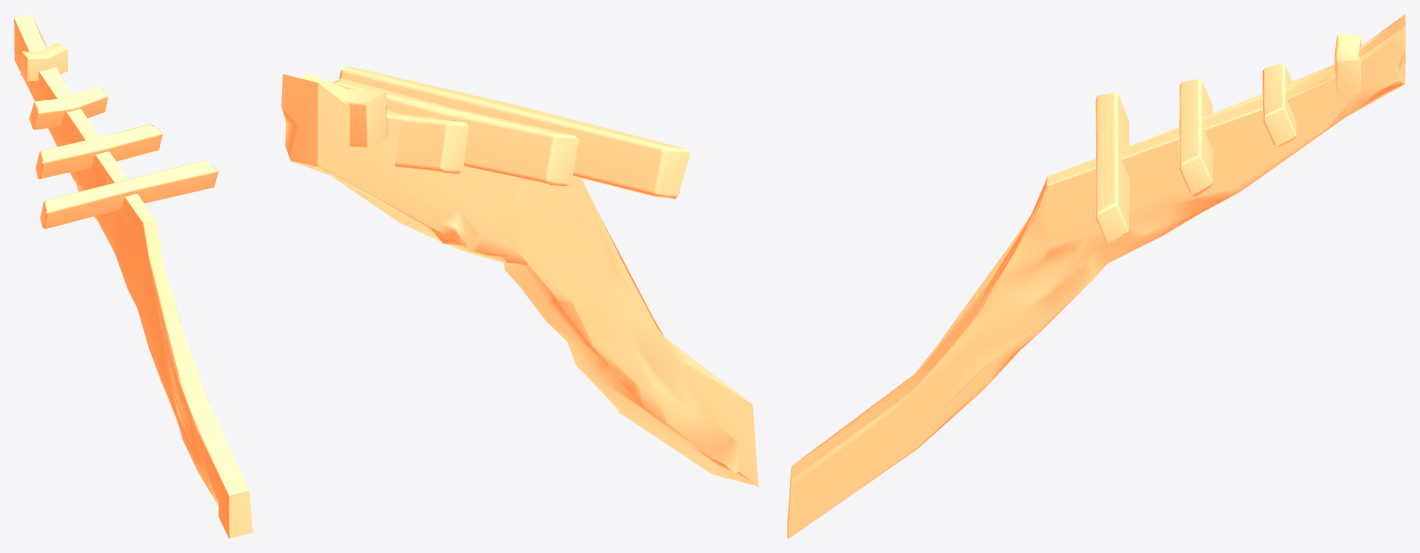
The model's file is SM_Bow01.fbx.
The picture shows the model from 3 angles, left to right: view 1: azimuth 30°, elevation 25°; view 2: azimuth 150°, elevation 25°; view 3: azimuth 270°, elevation 25°; orthographic projection. The views are drawn at different scales.
Parts seen in each view (by area): view 1: SM_Bow01_LOD0; view 2: SM_Bow01_LOD0; view 3: SM_Bow01_LOD0.
Part boxes in pixels (left/top/right/bottom): SM_Bow01_LOD0: left=14, top=14, right=252, bottom=538; SM_Bow01_LOD0: left=281, top=66, right=758, bottom=486; SM_Bow01_LOD0: left=787, top=14, right=1405, bottom=538.
Size of the model in its own units: 230 by 501 by 457.
